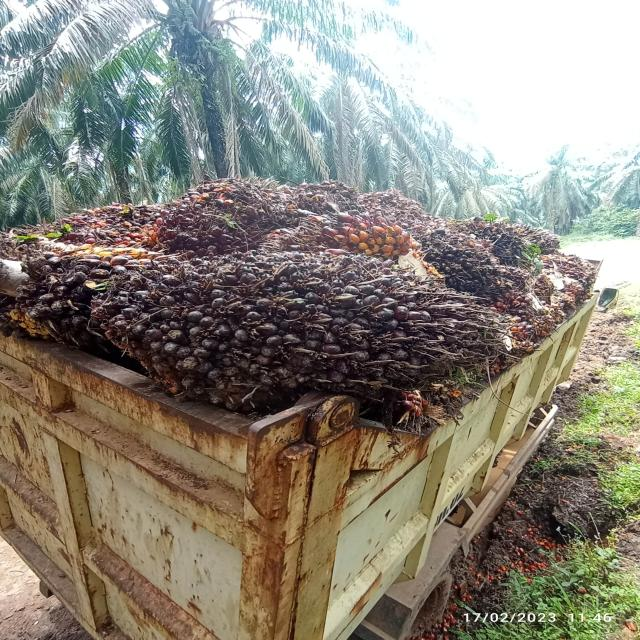fraksi 00: (108, 230, 500, 449), (412, 223, 500, 306)
